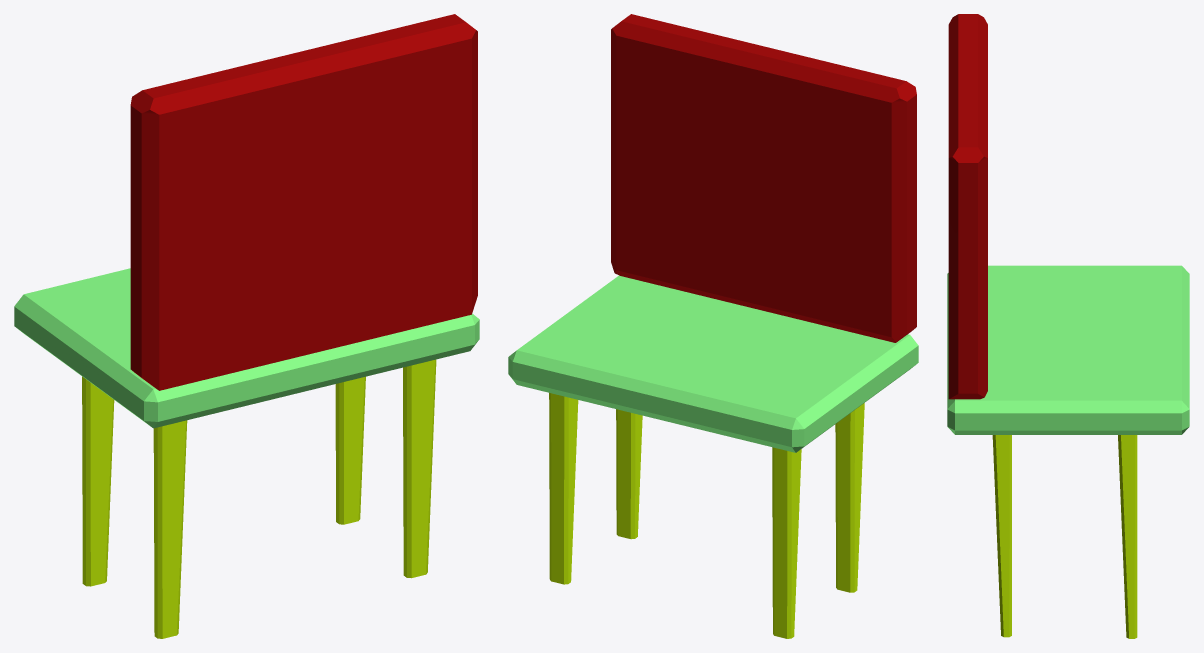
File: Chair.fbx
The picture shows the model from 3 angles, left to right: view 1: azimuth 30°, elevation 25°; view 2: azimuth 150°, elevation 25°; view 3: azimuth 270°, elevation 25°; orthographic projection. The views are drawn at different scales.
Visible parts, largest first — view 1: MK_Chair_UV; view 2: MK_Chair_UV; view 3: MK_Chair_UV.
Part boxes in pixels (x1,y1,x2,y2): MK_Chair_UV: (14,14,479,638); MK_Chair_UV: (508,14,918,638); MK_Chair_UV: (947,14,1189,638).
Size of the model in its own units: 46.23 by 74.42 by 33.04.
